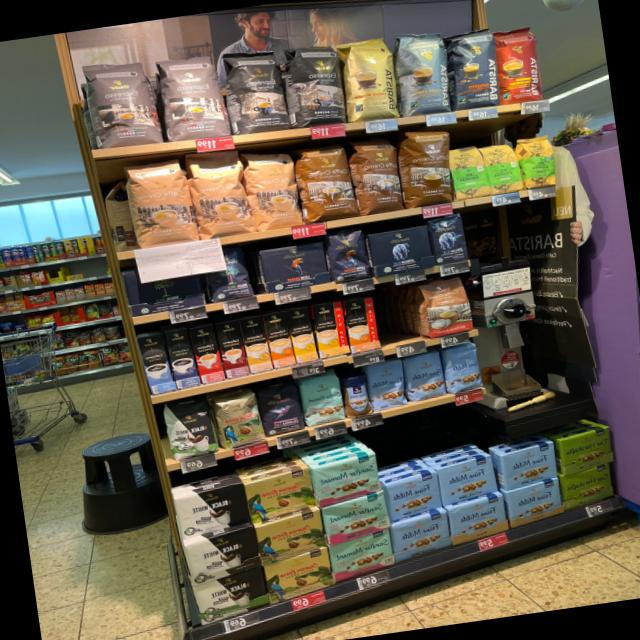AB Bohne: (426, 211, 472, 268)
AB Gemahlen: (366, 224, 436, 279)
Athiopien Bohne: (515, 130, 560, 190)
Athiopien Gemahlen: (448, 142, 491, 201), (480, 140, 524, 197)
BW Bohne: (162, 396, 218, 462)
BW Gemahlen: (183, 527, 260, 586), (190, 568, 268, 626), (173, 482, 250, 540)
Barista CB: (336, 33, 402, 126)
Barista CC: (390, 27, 454, 117)
Barista Espresso: (444, 26, 502, 112)
Barista Kolumbien: (491, 23, 547, 106)
C Fino Bohne: (258, 380, 304, 439)
CC Mild: (124, 157, 198, 250), (186, 148, 252, 241), (240, 148, 304, 232)
CC Vollmundig: (420, 274, 474, 339)
CC Vollmundig 36 Pads: (293, 140, 359, 223), (397, 126, 460, 209), (348, 136, 406, 217)
Colombia BB Bohne: (212, 392, 265, 450)
Colombia BB Gemahlen: (263, 547, 336, 606), (244, 468, 319, 524), (255, 510, 328, 567)
Empty Shelf: (374, 284, 428, 348)
Espresso Aromatisch: (81, 56, 164, 152), (154, 51, 230, 143)
FM Bohne: (442, 341, 484, 395), (402, 351, 446, 402), (366, 359, 408, 412)
FM Gemahlen: (445, 492, 511, 545), (435, 456, 500, 507), (390, 510, 452, 563), (503, 477, 566, 529), (498, 442, 559, 492), (384, 472, 445, 522)
FM Instant: (339, 373, 374, 419)
Herzhatfe Mundig: (556, 424, 616, 476), (559, 463, 617, 511)
LG Bohne: (324, 228, 374, 286)
LG Gemahlen: (257, 240, 332, 294)
SM Bohne: (296, 372, 346, 429)
SM Gemahlen: (313, 453, 385, 509), (322, 491, 394, 547), (329, 529, 397, 583)
Simo CCMild: (312, 300, 350, 358)
Simo CCMild bigpack: (286, 306, 319, 364)
Simo CCVollmundig: (344, 297, 381, 354)
Simo CCVollmundig bigpack: (262, 310, 297, 369)
Simo Decaff: (239, 316, 274, 374)
Simo Es Brazil: (188, 323, 226, 385)
Simo Es Caramel: (215, 320, 250, 379)
Simo Es Kraft: (164, 328, 200, 389)
Simo Es Vanilla: (135, 334, 176, 394)
